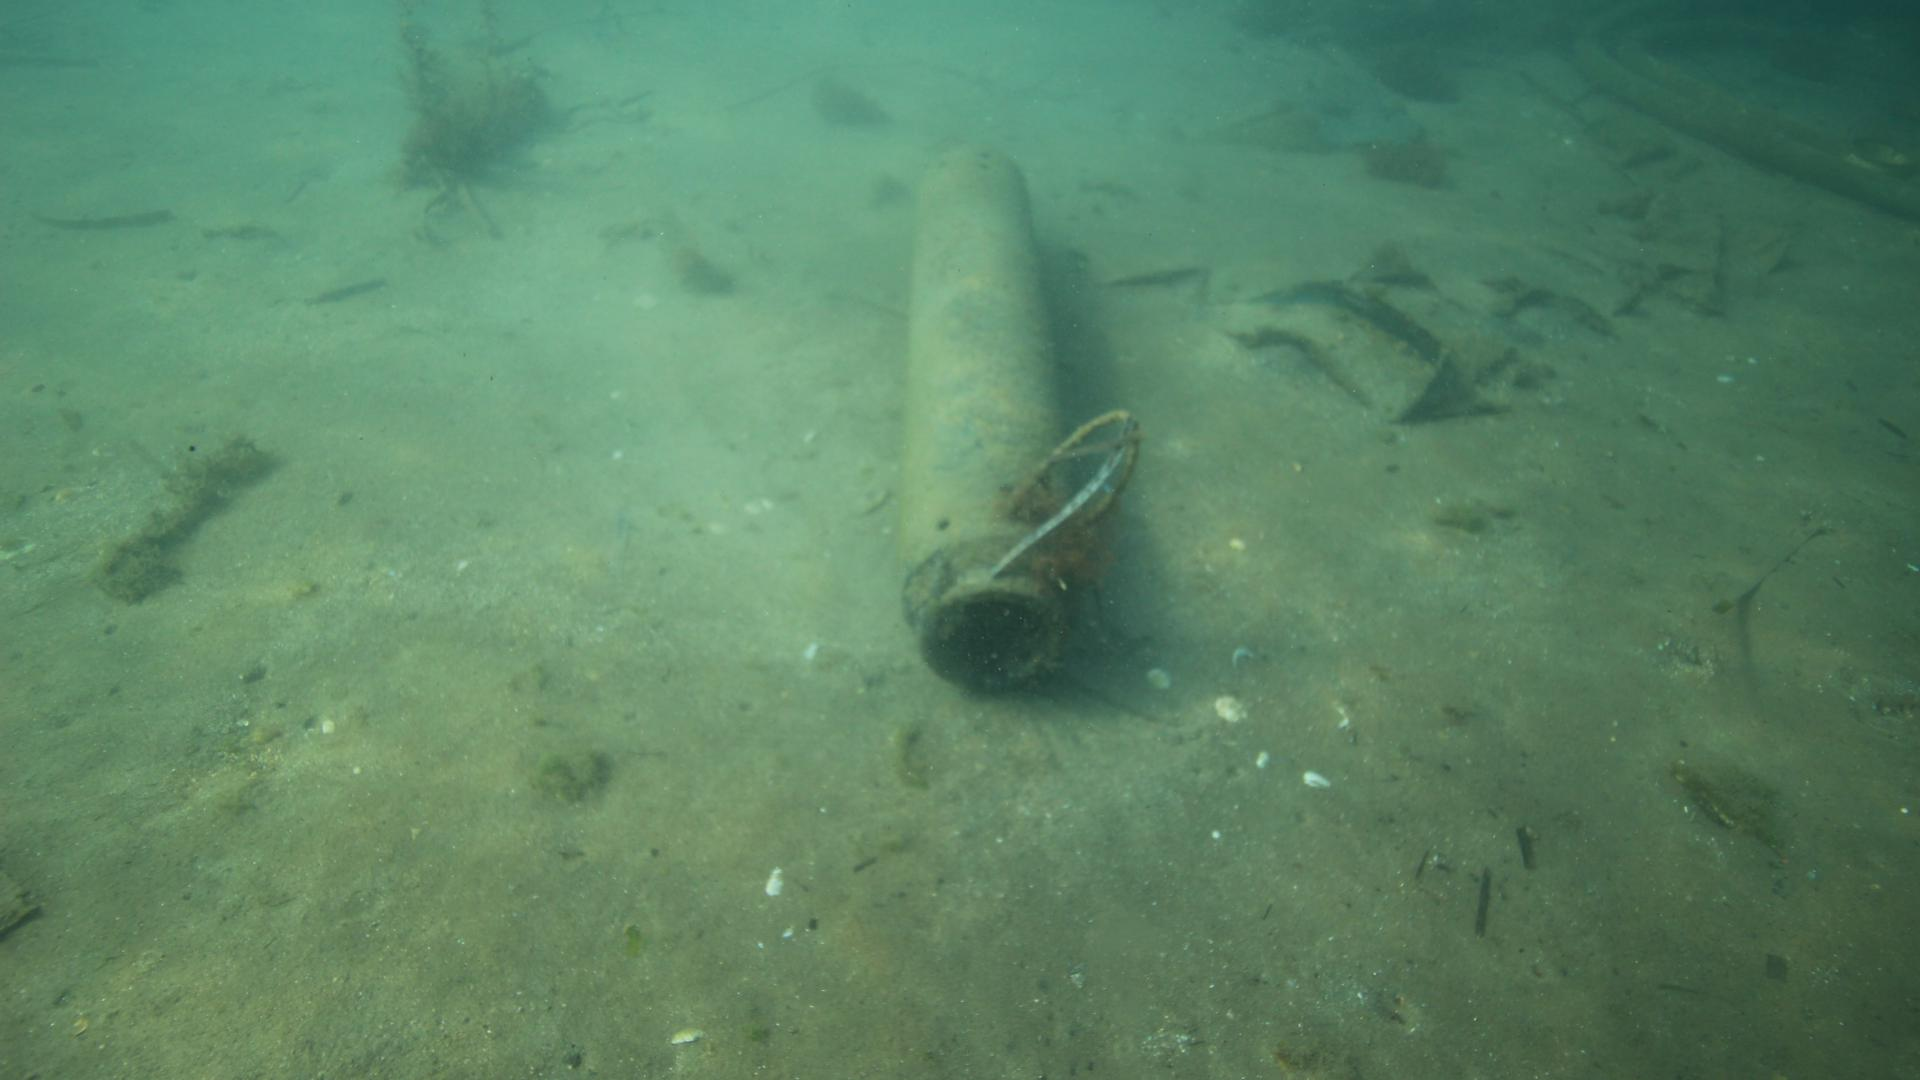eel fish trap: (891, 141, 1092, 702)
rope: (997, 405, 1145, 531)
